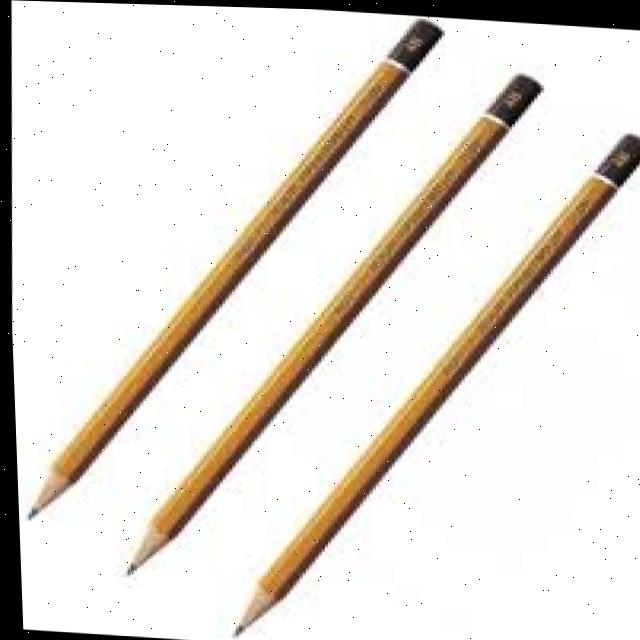pencil: (115, 63, 548, 582), (15, 20, 454, 527), (226, 127, 640, 638)
